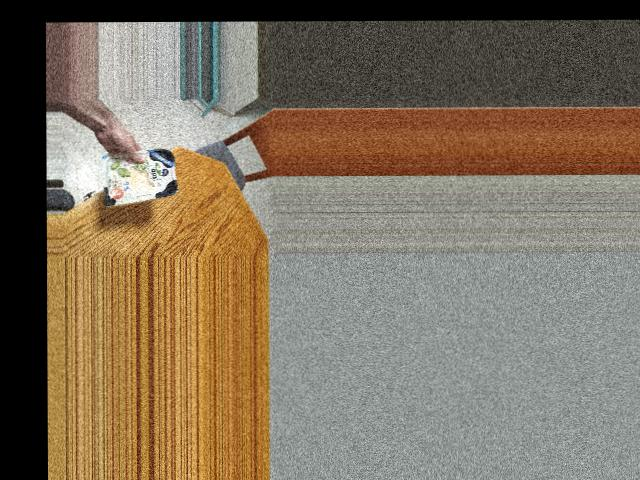cheese: (108, 149, 174, 201)
